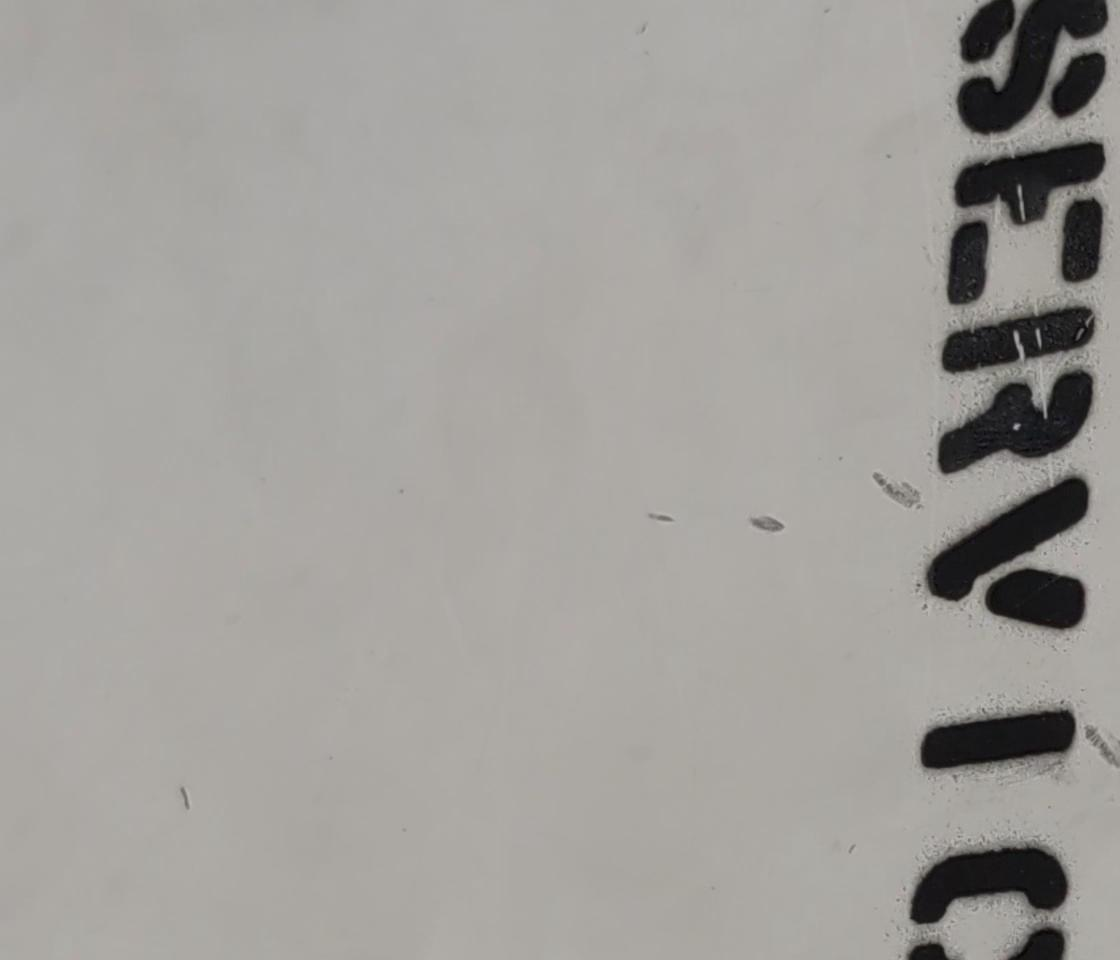scratch: (165, 774, 197, 817), (639, 504, 682, 529)
